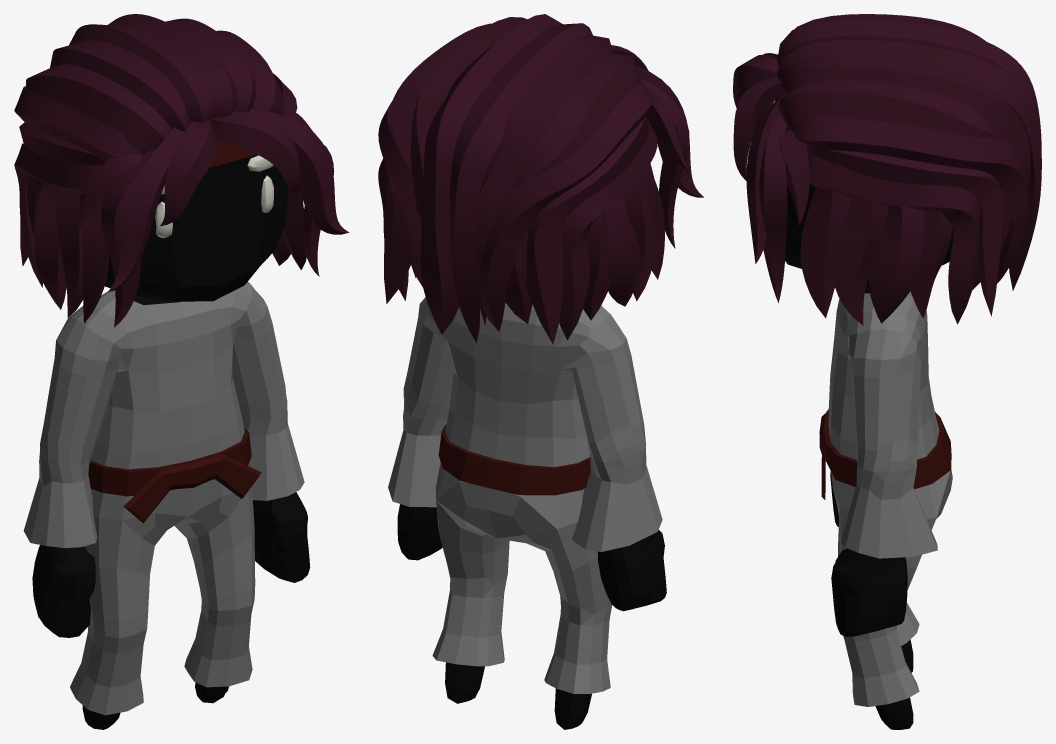
Rendered from Kimono_Female.obj.
The picture shows the model from 3 angles, left to right: view 1: azimuth 30°, elevation 25°; view 2: azimuth 150°, elevation 25°; view 3: azimuth 270°, elevation 25°; orthographic projection. The views are drawn at different scales.
Parts seen in each view (by area): view 1: Body_Cube.004; view 2: Body_Cube.004; view 3: Body_Cube.004.
Boxes of the visible parts, x1=… form: Body_Cube.004: x1=14, y1=14, x2=349, y2=729; Body_Cube.004: x1=378, y1=14, x2=703, y2=729; Body_Cube.004: x1=733, y1=14, x2=1041, y2=729.
Bounding box in the file's own units: 1.31 × 3.17 × 1.32.
